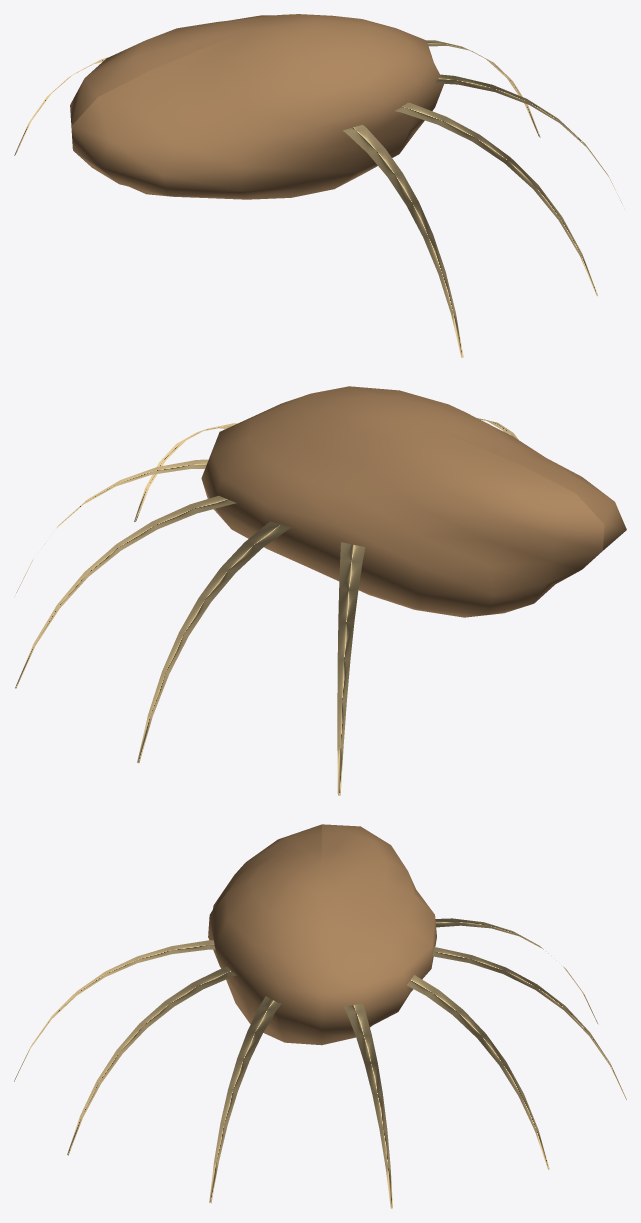
Rendered from coconut_husk.glb.
3 renders of one model, top to bottom at view 1: azimuth 30°, elevation 25°; view 2: azimuth 150°, elevation 25°; view 3: azimuth 270°, elevation 25°, orthographic. The views are drawn at different scales.
Parts seen in each view (by area): view 1: coconut-husk; view 2: coconut-husk; view 3: coconut-husk.
Part boxes in pixels (x1,y1,x2,y2): coconut-husk: (14, 14, 624, 357); coconut-husk: (15, 386, 626, 795); coconut-husk: (14, 824, 626, 1208).
Size of the model in its own units: 0.6178 by 0.2516 by 0.7067.
